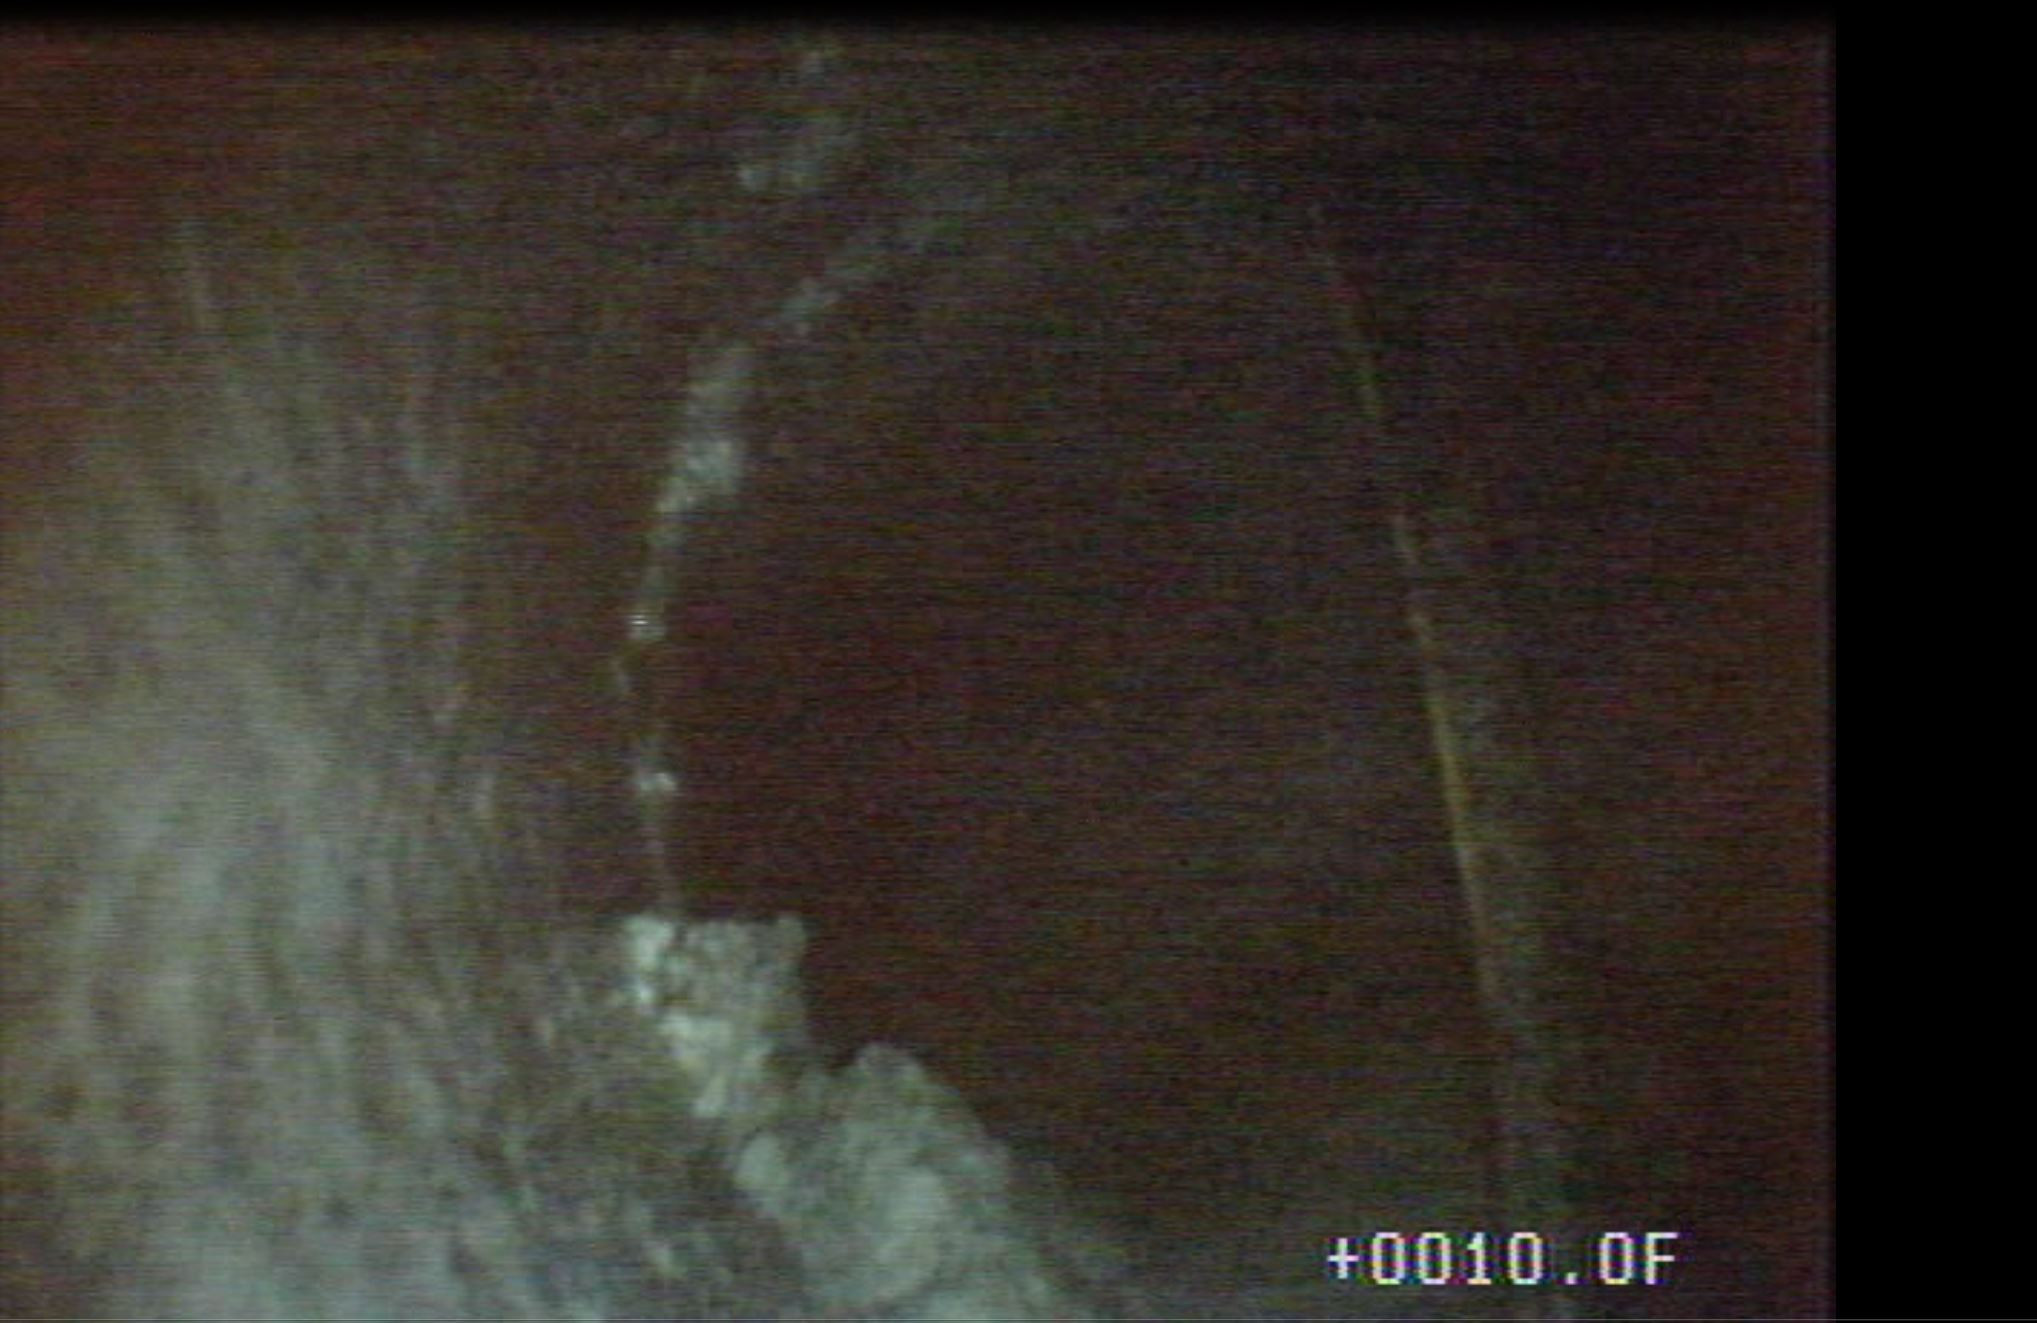cb: (1247, 113, 1638, 1183)
